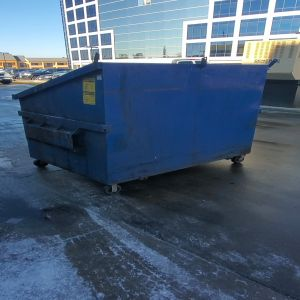Dumpster: (17, 61, 271, 194)
